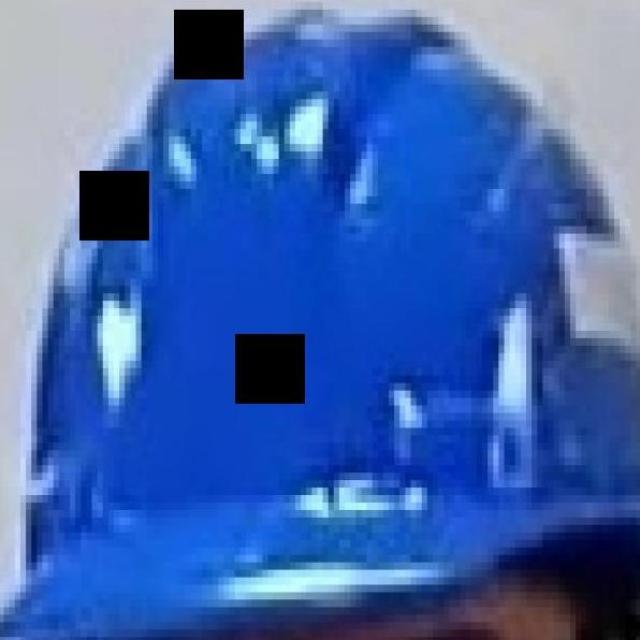blue helmet: (4, 2, 640, 640)
